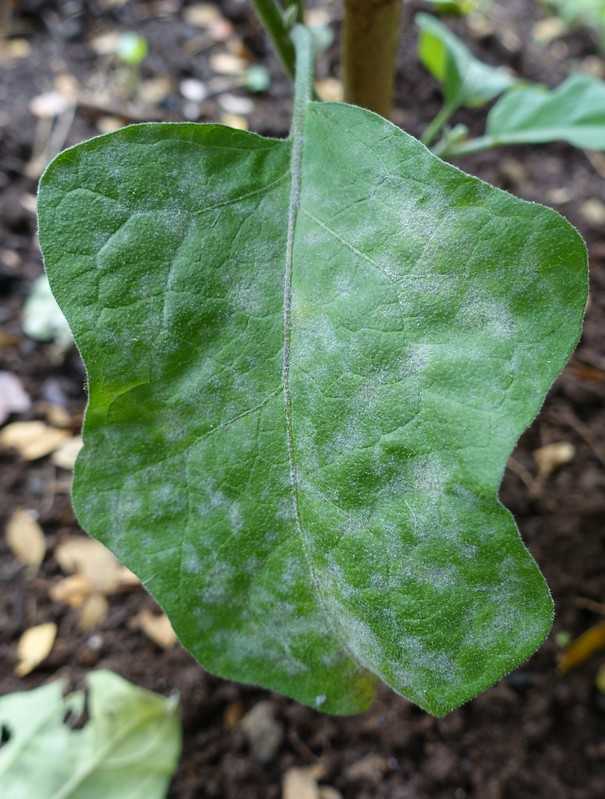Eggplant_PowderyMildew: (83, 127, 548, 702)
